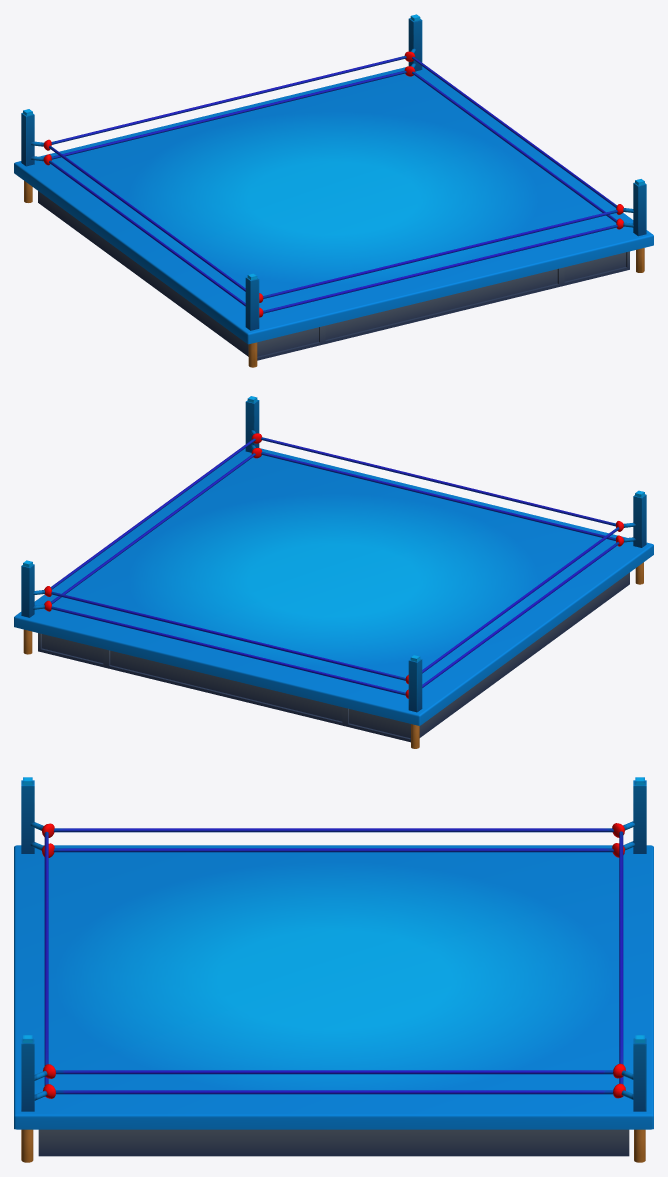
The model's file is boxingring.fbx.
3 views of the same model, one above another, from view 1: azimuth 30°, elevation 25°; view 2: azimuth 150°, elevation 25°; view 3: azimuth 270°, elevation 25° (orthographic). The views are drawn at different scales.
Visible parts, largest first — view 1: Box001; view 2: Box001; view 3: Box001.
Part boxes in pixels (box(x1,y1,x2,y2)): Box001: box(14, 14, 653, 367); Box001: box(14, 396, 653, 748); Box001: box(14, 777, 653, 1162).
Bounding box in the file's own units: 9.53 × 2.02 × 9.53.
Materials: 1 (1 with a texture image).
